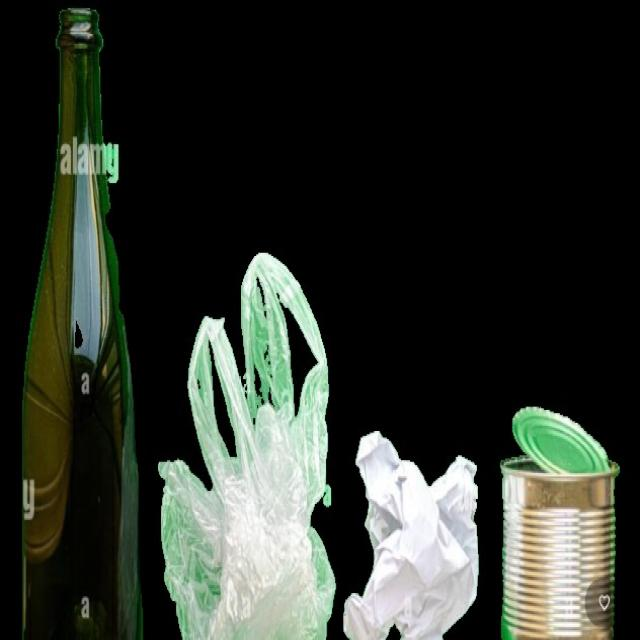metal: (496, 394, 639, 640)
paper: (347, 419, 481, 640)
plastic: (159, 249, 337, 640)
